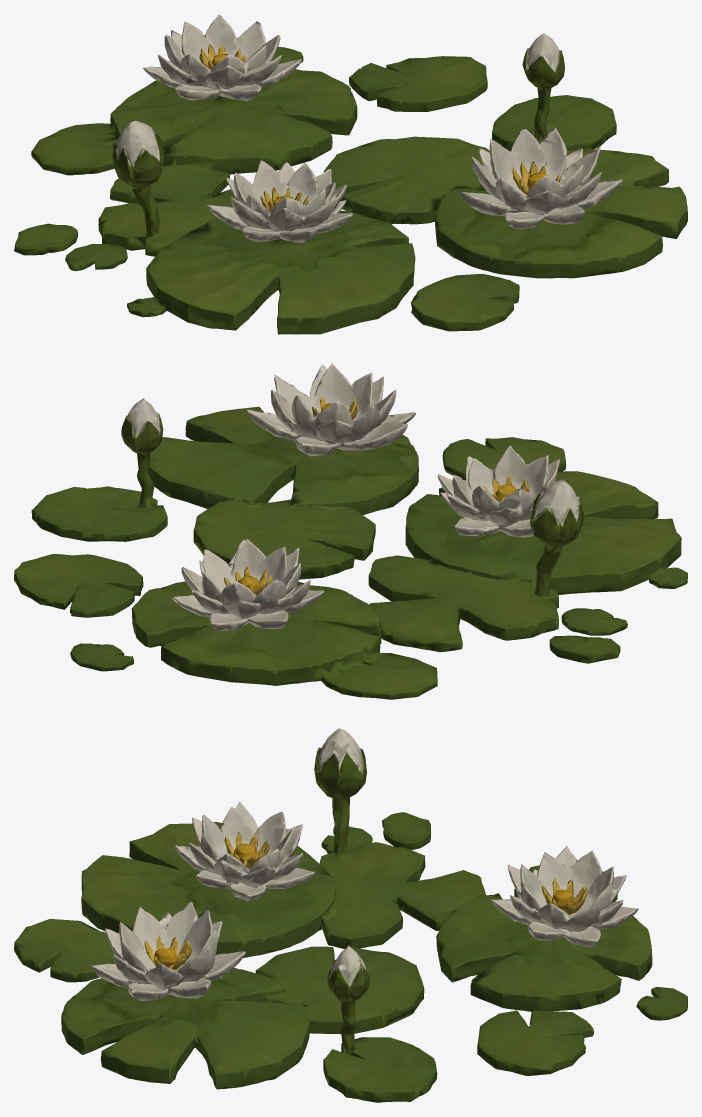
Rendered from fen_lilies.glb.
The picture shows the model from 3 angles, top to bottom: view 1: azimuth 30°, elevation 25°; view 2: azimuth 150°, elevation 25°; view 3: azimuth 270°, elevation 25°; orthographic projection.
Visible parts, largest first — view 1: tripo_node_2d8d6ac0-e531-4d85-a6b2-161369837551; view 2: tripo_node_2d8d6ac0-e531-4d85-a6b2-161369837551; view 3: tripo_node_2d8d6ac0-e531-4d85-a6b2-161369837551.
Boxes of the visible parts, x1=… form: tripo_node_2d8d6ac0-e531-4d85-a6b2-161369837551: x1=14, y1=15, x2=687, y2=334; tripo_node_2d8d6ac0-e531-4d85-a6b2-161369837551: x1=14, y1=363, x2=687, y2=699; tripo_node_2d8d6ac0-e531-4d85-a6b2-161369837551: x1=14, y1=728, x2=687, y2=1102.
Bounding box in the file's own units: 0.9773 × 0.2157 × 0.9796.
1 material, 1 textured.
